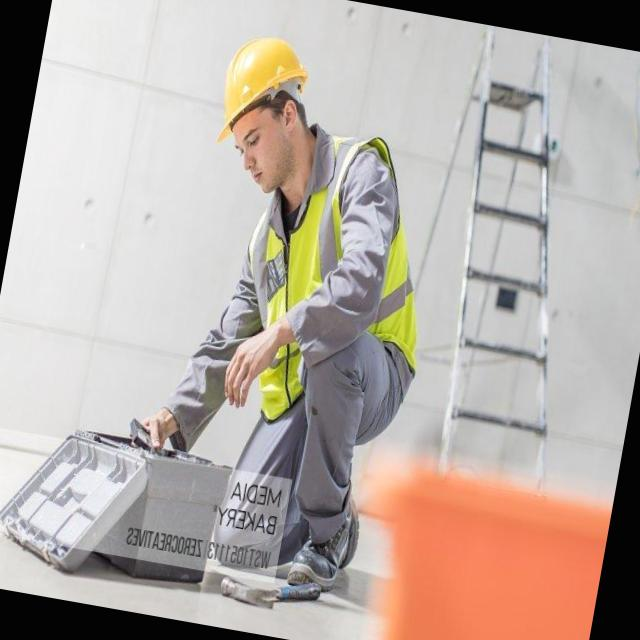helmet: (209, 22, 318, 165)
vest: (214, 116, 423, 429)
